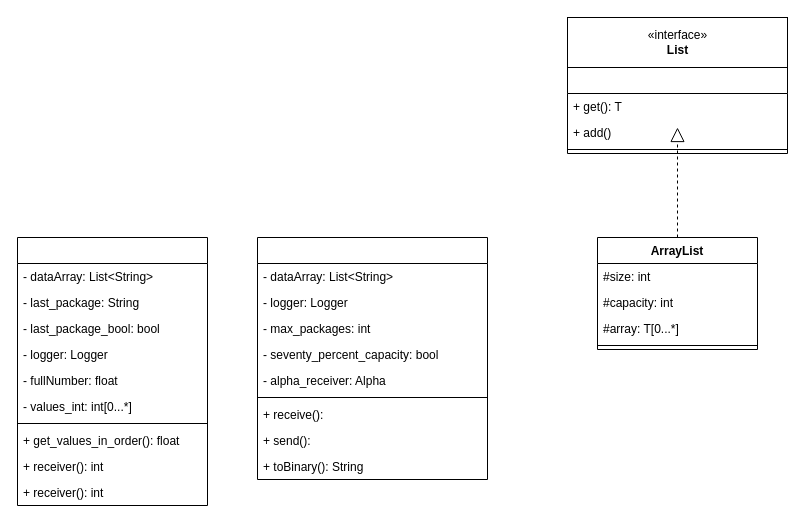
Image size: 805x526. Some labels were removed from this diagram. Here are the shapes that lost their labels. From the top down, the box of each, then its label:
(16, 236, 208, 506): Alpha
(256, 236, 488, 480): Beta
